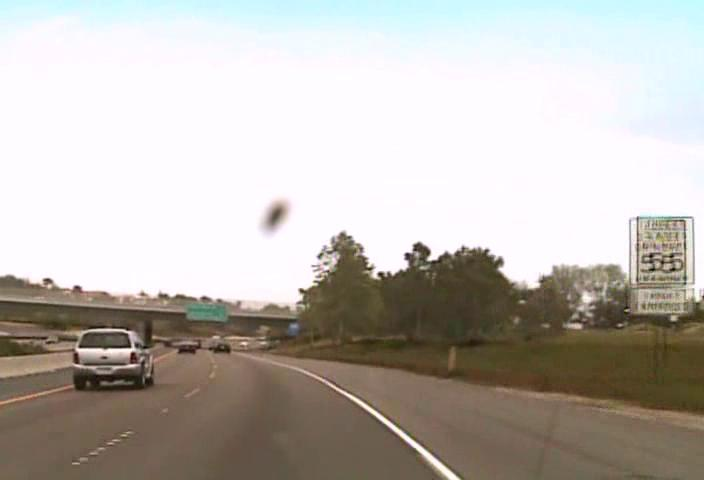truckSpeedLimit55: (628, 215, 694, 314)
